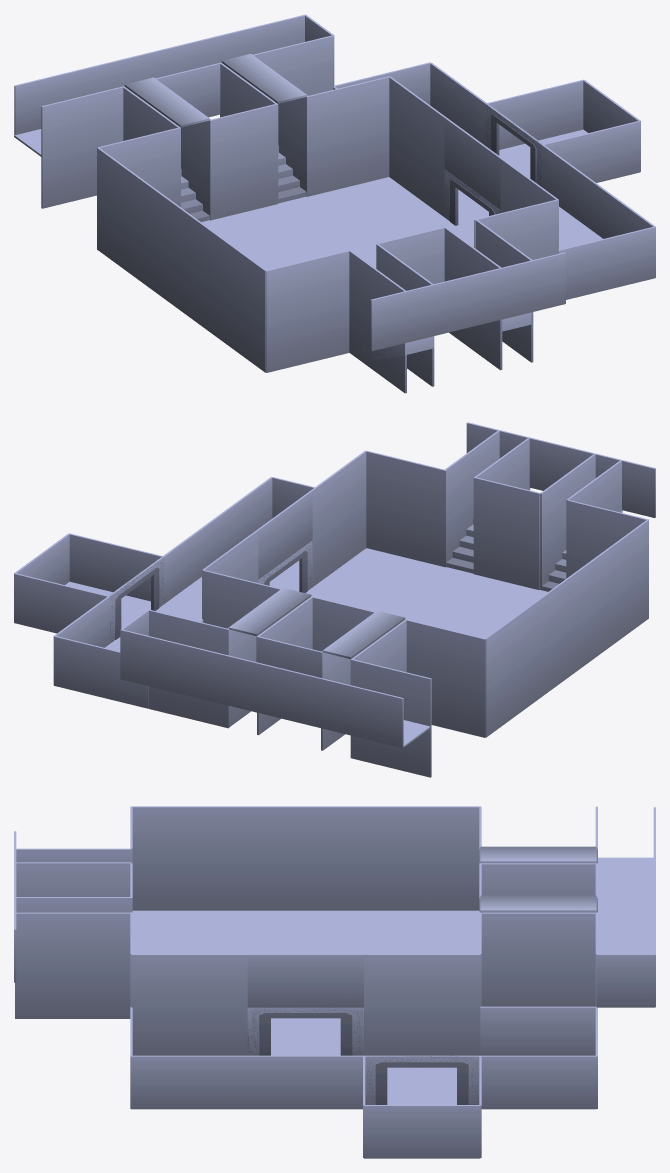
File: ClosedScene.glb
3 views of the same model, one above another, from view 1: azimuth 30°, elevation 25°; view 2: azimuth 150°, elevation 25°; view 3: azimuth 270°, elevation 25° (orthographic). The views are drawn at different scales.
Visible parts, largest first — view 1: wall_physical_object (16), floor_physical_object (5), wall_physical_object (36), wall_physical_object (15), wall_physical_object (17), wall_physical_object (11), wall_physical_object (28), wall_physical_object (12), wall_physical_object (4), wall_physical_object (7), wall_physical_object (10), wall_physical_object (27) (+29 smaller); view 2: wall_physical_object (16), wall_physical_object (15), floor_physical_object (5), wall_physical_object (19), wall_physical_object (13), wall_physical_object (18), wall_physical_object (6), wall_physical_object (28), wall_physical_object (36), wall_physical_object (14), wall_physical_object (8), wall_physical_object (9) (+27 smaller); view 3: wall_physical_object (16), floor_physical_object (5), wall_physical_object (24), wall_physical_object (4), wall_physical_object (6), wall_physical_object (20), wall_physical_object (3), wall_physical_object, wall_physical_object (2), wall_physical_object (5), wall_physical_object (35), wall_physical_object (1) (+11 smaller).
Part boxes in pixels (x1,y1,x2,y2): wall_physical_object (16): (97, 148, 266, 372); floor_physical_object (5): (201, 177, 474, 269); wall_physical_object (36): (370, 252, 565, 351); wall_physical_object (15): (14, 14, 306, 134); wall_physical_object (17): (266, 250, 349, 372); wall_physical_object (11): (306, 76, 389, 196); wall_physical_object (28): (41, 86, 124, 208); wall_physical_object (12): (209, 103, 278, 220); wall_physical_object (4): (389, 76, 446, 217); wall_physical_object (7): (558, 226, 655, 299); wall_physical_object (10): (487, 79, 583, 149); wall_physical_object (27): (349, 250, 406, 393); wall_physical_object (16): (485, 519, 648, 737); wall_physical_object (15): (120, 629, 403, 747); floor_physical_object (5): (305, 548, 547, 638); wall_physical_object (19): (366, 450, 446, 567); wall_physical_object (13): (405, 619, 485, 737); wall_physical_object (18): (473, 477, 539, 590); wall_physical_object (6): (311, 451, 366, 586); wall_physical_object (28): (350, 659, 431, 777); wall_physical_object (36): (466, 422, 655, 517); wall_physical_object (14): (148, 610, 229, 728); wall_physical_object (8): (54, 636, 148, 708); wall_physical_object (9): (69, 533, 163, 601); wall_physical_object (16): (131, 806, 479, 910); floor_physical_object (5): (132, 910, 479, 1055); wall_physical_object (24): (15, 912, 130, 1018); wall_physical_object (4): (364, 954, 480, 1055); wall_physical_object (6): (131, 954, 247, 1055); wall_physical_object (20): (481, 912, 595, 1006); wall_physical_object (3): (131, 1055, 247, 1109); wall_physical_object: (480, 1055, 596, 1109); wall_physical_object (2): (247, 1055, 363, 1109); wall_physical_object (5): (364, 1105, 480, 1158); wall_physical_object (35): (247, 954, 363, 1007); wall_physical_object (1): (480, 1006, 596, 1055).
Size of the model in its own units: 50.2 by 10.2 by 55.2.
4 materials, 4 textured.
